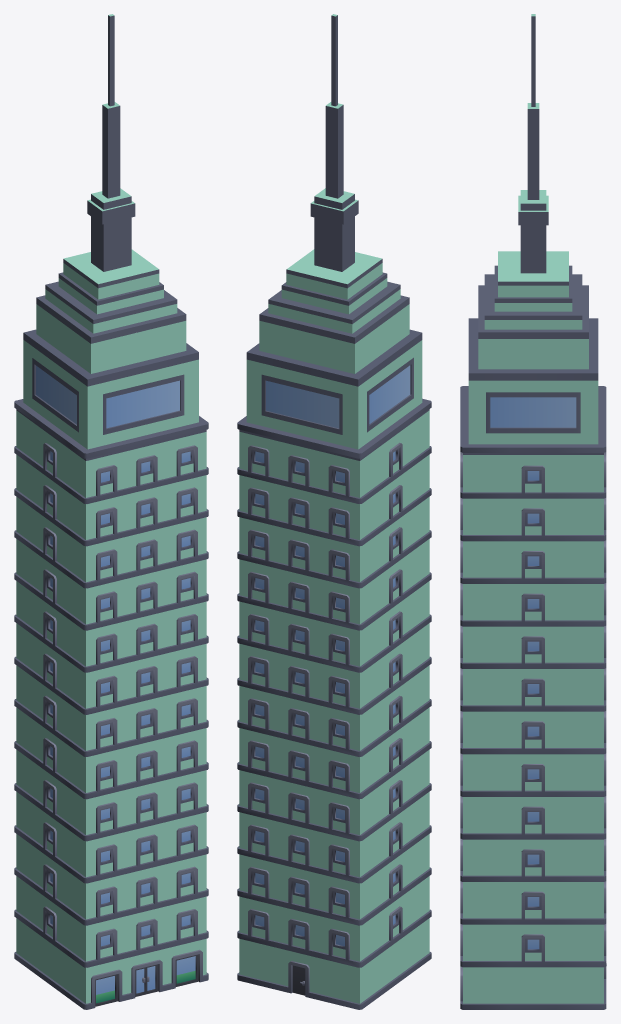
The model's file is skyscraperX.glb.
3 views of the same model, side by side, from view 1: azimuth 30°, elevation 25°; view 2: azimuth 150°, elevation 25°; view 3: azimuth 270°, elevation 25° (orthographic).
Visible parts, largest first — view 1: skyscraperX1; view 2: skyscraperX1; view 3: skyscraperX1.
Part boxes in pixels (left/top/right/bottom): skyscraperX1: left=14, top=14, right=208, bottom=1009; skyscraperX1: left=237, top=14, right=431, bottom=1009; skyscraperX1: left=460, top=14, right=606, bottom=1009.
Bounding box in the file's own units: 1.24 × 9.05 × 1.24.
Materials: 2 (1 with a texture image).
